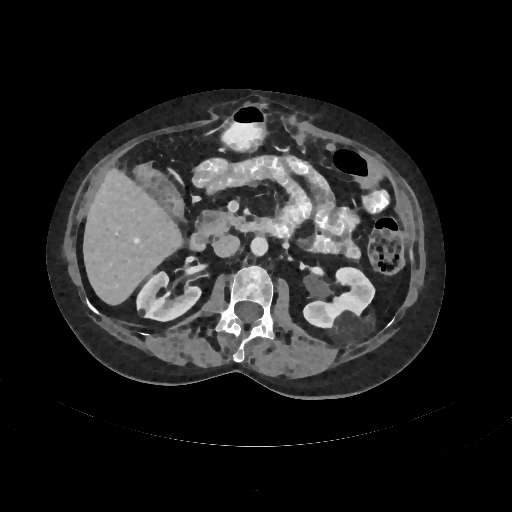Lesion: (329, 310, 377, 349)
